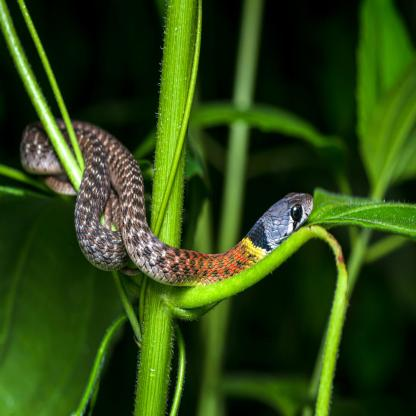Snake: (23, 117, 310, 295)
